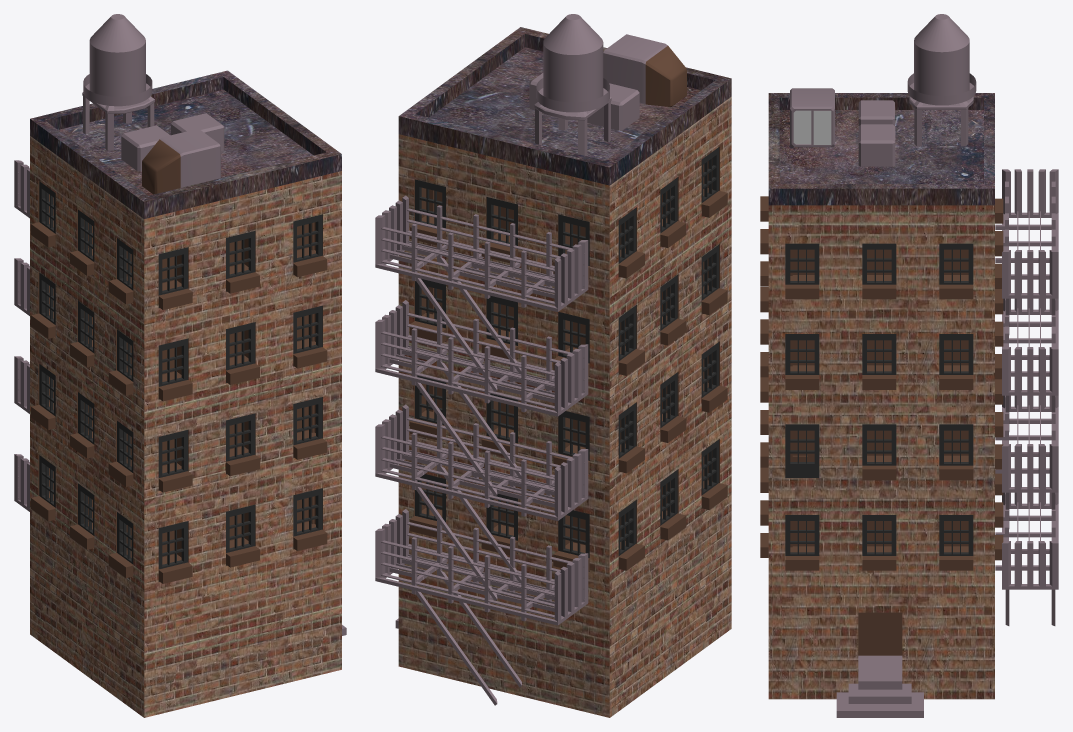
File: building1.gltf
The picture shows the model from 3 angles, left to right: view 1: azimuth 30°, elevation 25°; view 2: azimuth 150°, elevation 25°; view 3: azimuth 270°, elevation 25°; orthographic projection. The views are drawn at different scales.
Visible parts, largest first — view 1: building_4_Cube.009; view 2: building_4_Cube.009; view 3: building_4_Cube.009.
Part boxes in pixels (box(x1,y1,x2,y2)): building_4_Cube.009: box(14, 14, 346, 717); building_4_Cube.009: box(375, 14, 731, 717); building_4_Cube.009: box(760, 14, 1058, 717).
Size of the model in its own units: 2.47 by 6.01 by 2.64.
Materials: 4 (2 with a texture image).
